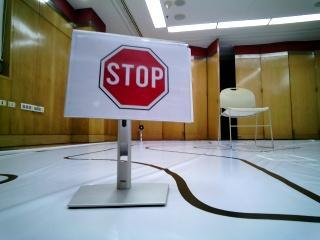stop: (77, 34, 183, 118)
